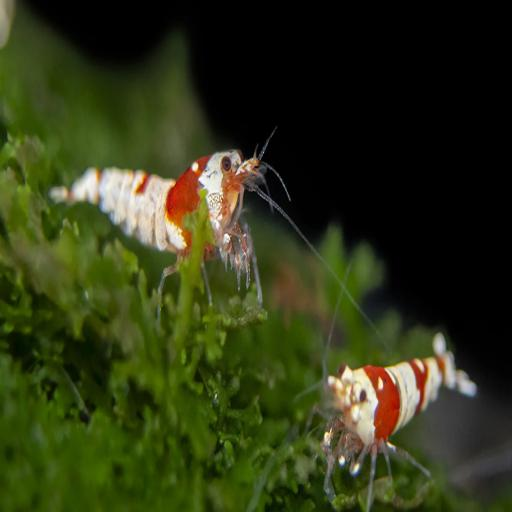Shrimp: (43, 133, 298, 318), (316, 336, 478, 511)
